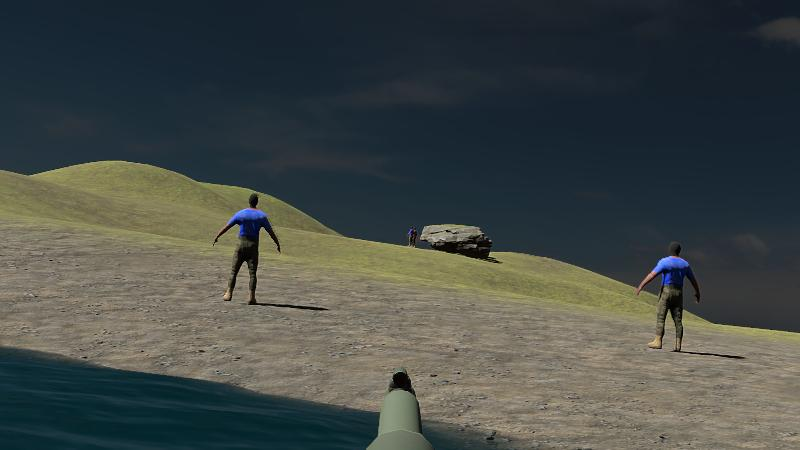Human: (213, 193, 280, 305), (636, 241, 700, 352)
